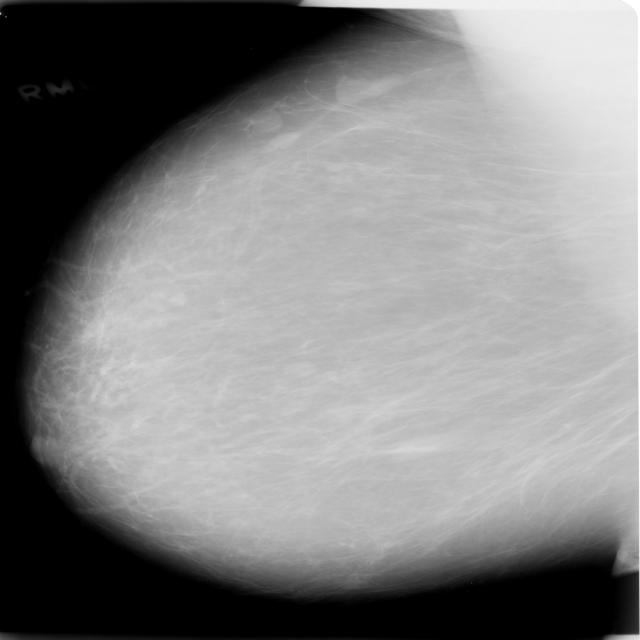normal: (13, 7, 640, 602)
